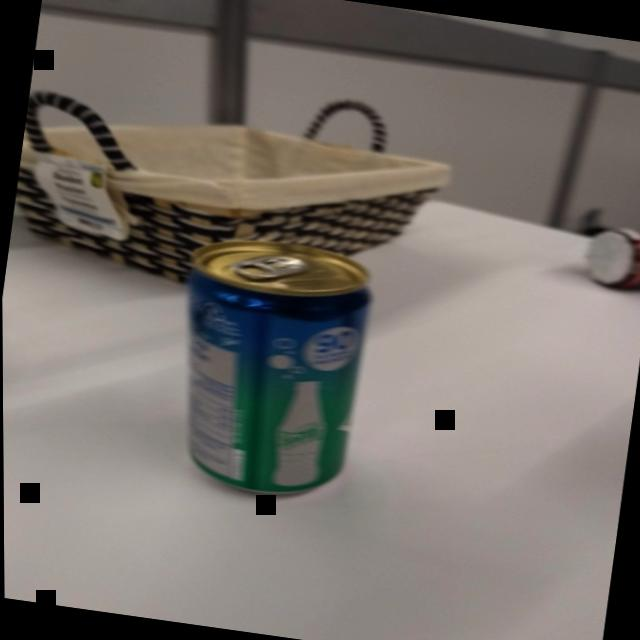sprite: (148, 225, 385, 514)
